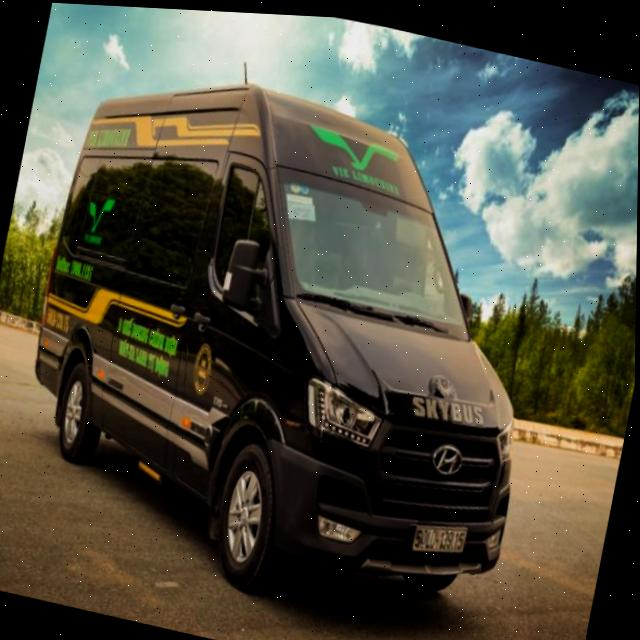car: (0, 21, 597, 640)
plate: (403, 512, 471, 567)
